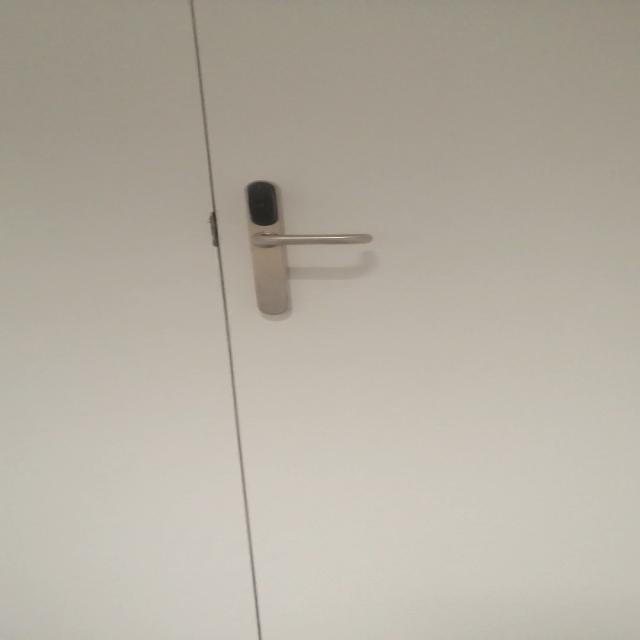door_handle: (244, 231, 388, 251)
